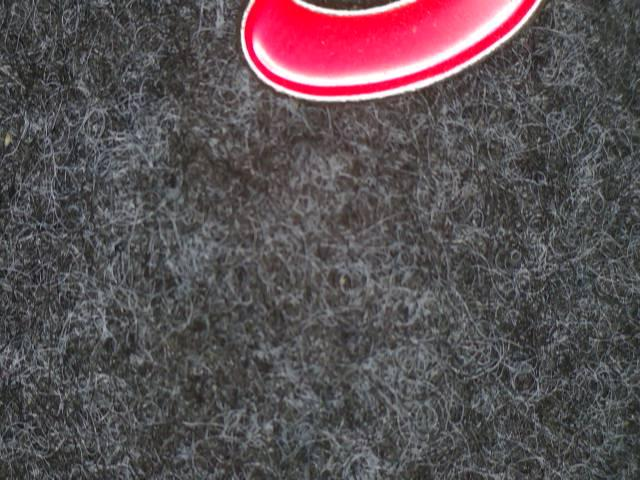Red-Hat: (213, 0, 561, 122)
